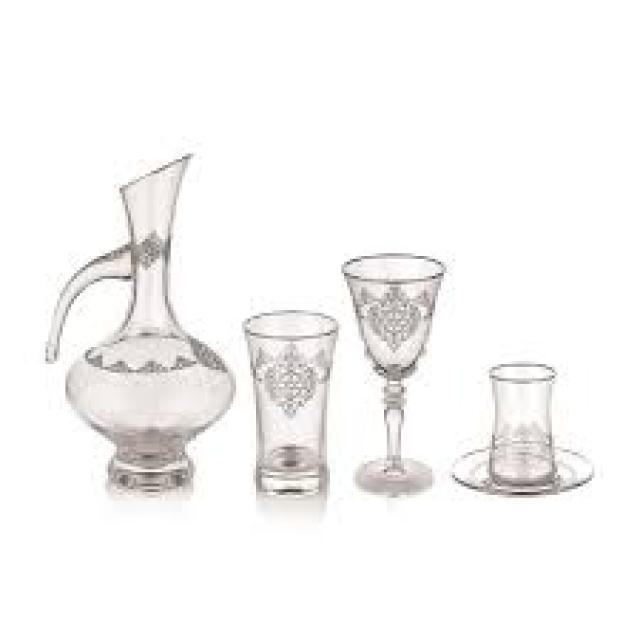Dry: (41, 148, 237, 496), (338, 250, 448, 491), (453, 362, 598, 497), (236, 309, 340, 496)
